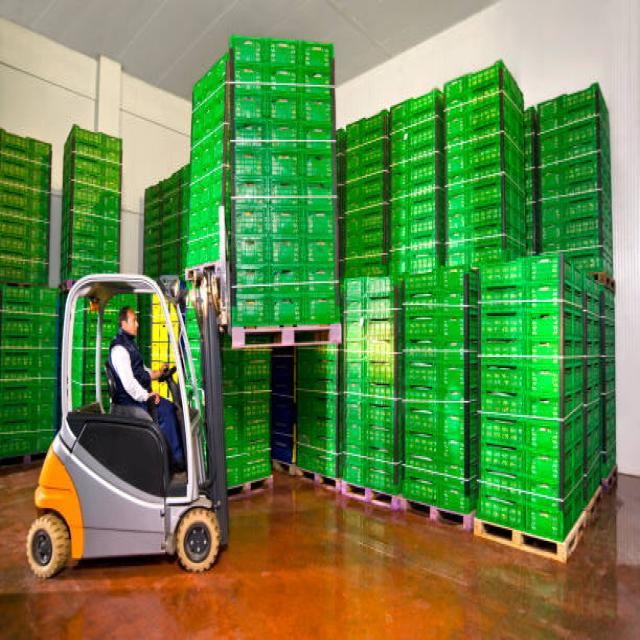Wooden-Pallets: (471, 505, 588, 572), (226, 313, 346, 359), (394, 490, 470, 543), (330, 473, 400, 529), (284, 455, 340, 502), (291, 456, 292, 459)
